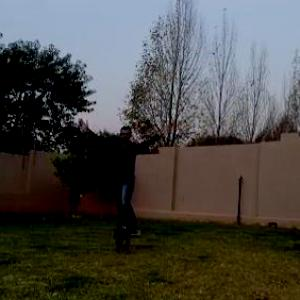takeoff: (92, 118, 186, 236)
